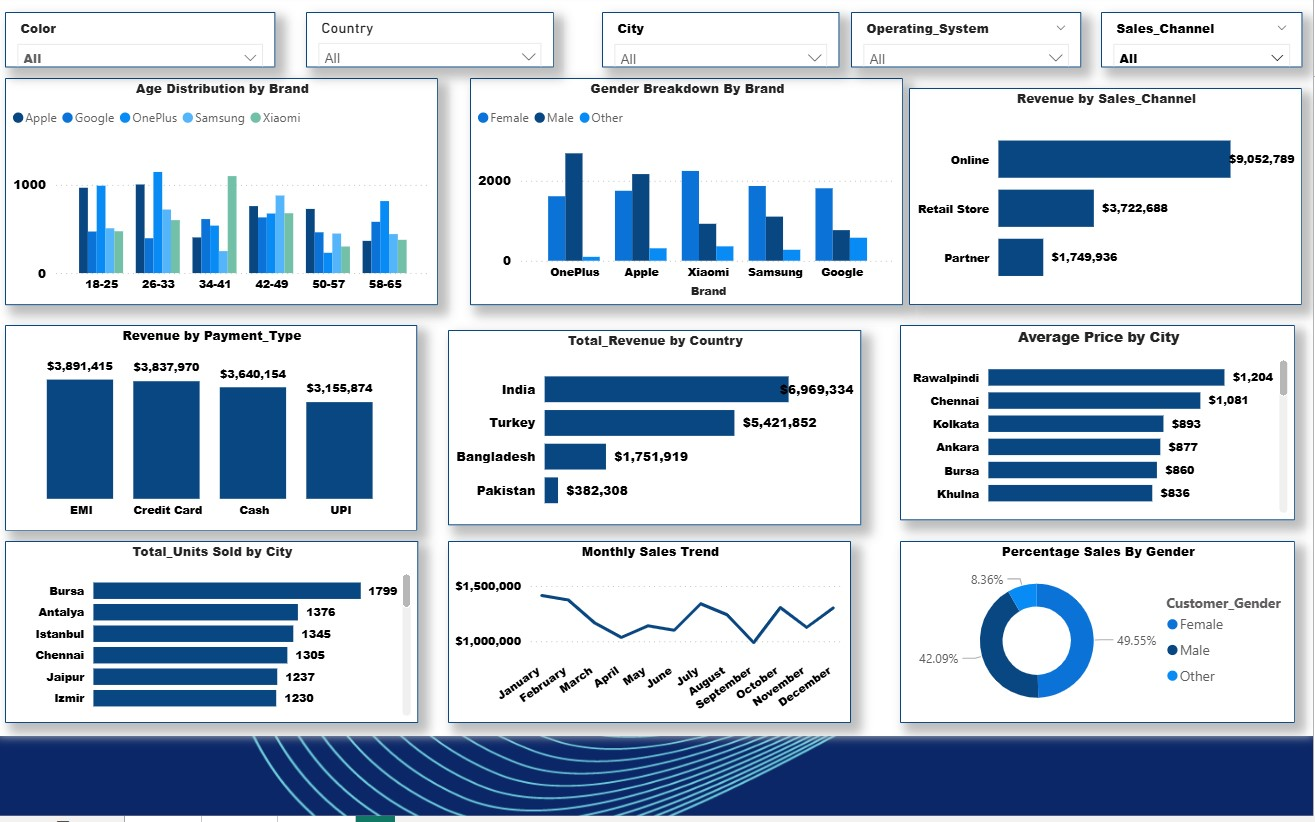

What the dashboard file says about the page in this screenshot:
{"tool":"powerbi","page":{"name":"Page 3","canvas":[1280,720],"ordinal":2},"visuals":[{"type":"clusteredColumnChart","title":"Age  Distribution  by Brand","fields":{"Category":["Sales_Data.Customer_Age_Group"],"Series":["Sales_Data.Brand"],"Y":["Measure.Total_Units Sold"]},"box":[7.8,79.8,421.2,220.8],"z":0},{"type":"clusteredColumnChart","title":"Gender Breakdown By Brand","fields":{"Category":["Sales_Data.Brand"],"Y":["Measure.Total_Units Sold"],"Series":["Sales_Data.Customer_Gender"]},"box":[460.1,79.8,421.2,220.8],"z":1000},{"type":"slicer","fields":{"Values":["Sales_Data.Color"]},"box":[7.8,15.6,262.6,54.5],"z":2000},{"type":"slicer","fields":{"Values":["Sales_Data.Country"]},"box":[300.5,15.6,241.2,54.5],"z":3000},{"type":"slicer","fields":{"Values":["Sales_Data.City"]},"box":[588.4,15.6,231.5,54.5],"z":4000},{"type":"slicer","fields":{"Values":["Sales_Data.Operating_System"]},"box":[830.6,15.6,223.7,54.5],"z":5000},{"type":"slicer","fields":{"Values":["Sales_Data.Sales_Channel"]},"box":[1073.8,15.6,195.5,54.5],"z":6000},{"type":"barChart","title":"Revenue by Sales_Channel","fields":{"Category":["Sales_Data.Sales_Channel"],"Y":["Measure.Total_Revenue"]},"box":[887.1,89.5,382.2,211.1],"z":7000},{"type":"columnChart","title":"Revenue by Payment_Type","fields":{"Category":["Sales_Data.Payment_Type"],"Y":["Measure.Total_Revenue"]},"box":[7.8,320,400.7,200.4],"z":8000},{"type":"barChart","fields":{"Y":["Measure.Total_Revenue"],"Category":["Locations.Country"]},"box":[438.7,324.9,401.7,189.7],"z":9000},{"type":"barChart","fields":{"Category":["Locations.City"],"Y":["Measure.Average  Price"]},"box":[878.3,320,384.2,189.7],"z":10000},{"type":"barChart","fields":{"Y":["Measure.Total_Units Sold"],"Category":["Locations.City"]},"box":[7.8,530.1,401.7,177],"z":11000},{"type":"lineChart","title":"Monthly  Sales Trend","fields":{"Y":["Measure.Total_Revenue"],"Category":["Sales_Data.Month Name"]},"box":[438.7,530.1,392,177],"z":12000},{"type":"donutChart","title":"Percentage Sales  By Gender","fields":{"Category":["Sales_Data.Customer_Gender"],"Y":["Measure.Total_Revenue"]},"box":[878,530,384,177],"z":13000}]}

Visuals, with their boxes on the page's 1280x720 design canvas (x1, y1, x2, y2). These are canvas units, not pixel positions in the 1315x822 screenshot, which may show the page scaled, cropped or inside an application window:
"Age  Distribution  by Brand" clusteredColumnChart: crop(8, 80, 429, 301)
"Gender Breakdown By Brand" clusteredColumnChart: crop(460, 80, 881, 301)
slicer - Sales_Data.Color: crop(8, 16, 270, 70)
slicer - Sales_Data.Country: crop(300, 16, 542, 70)
slicer - Sales_Data.City: crop(588, 16, 820, 70)
slicer - Sales_Data.Operating_System: crop(831, 16, 1054, 70)
slicer - Sales_Data.Sales_Channel: crop(1074, 16, 1269, 70)
"Revenue by Sales_Channel" barChart: crop(887, 90, 1269, 301)
"Revenue by Payment_Type" columnChart: crop(8, 320, 408, 520)
barChart - Measure.Total_Revenue x Locations.Country: crop(439, 325, 840, 515)
barChart - Locations.City x Measure.Average  Price: crop(878, 320, 1262, 510)
barChart - Measure.Total_Units Sold x Locations.City: crop(8, 530, 410, 707)
"Monthly  Sales Trend" lineChart: crop(439, 530, 831, 707)
"Percentage Sales  By Gender" donutChart: crop(878, 530, 1262, 707)
